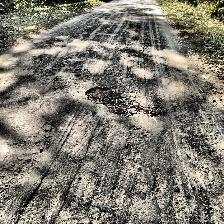pothole: (83, 86, 141, 116), (128, 22, 140, 28)
